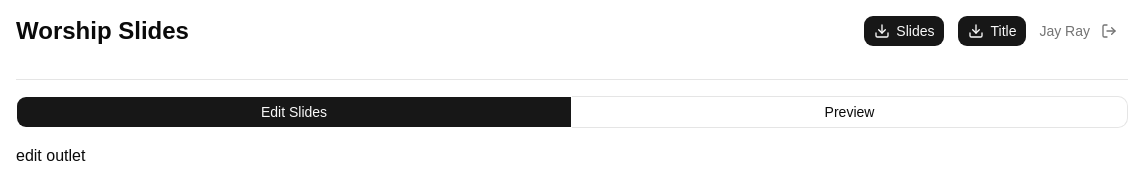
Test case: AppLayout › shows export links and edit/preview tabs for a service
Check: the text "edit outlet" is shown, box 16,147 -> 85,164
Click the link "Preview".
click(850, 112)  # box 572,96 -> 1128,128
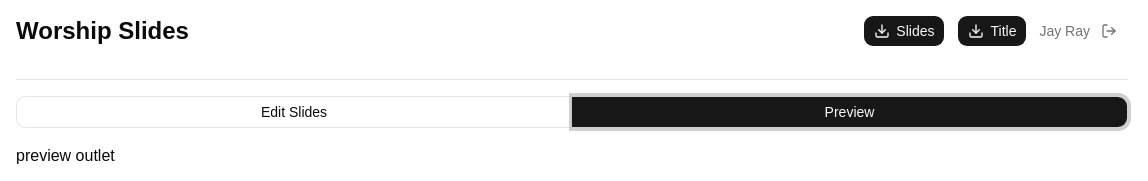
Check: the text "preview outlet" is shown, box 16,147 -> 115,164
